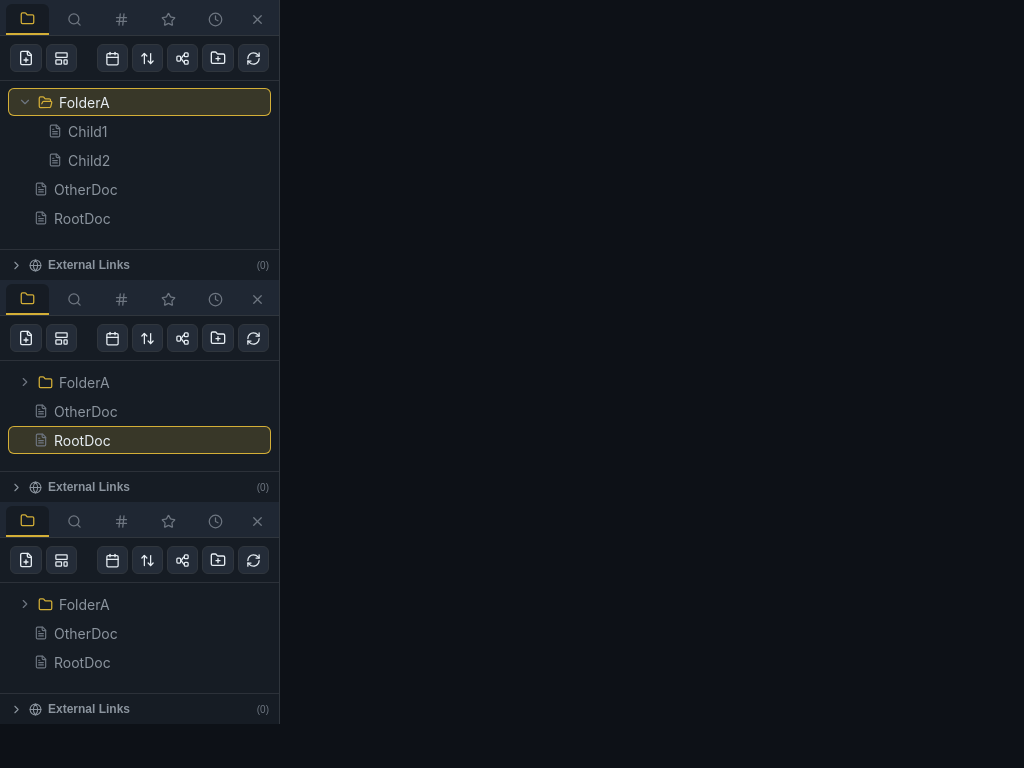
Test case: FileSidebar Multi-Select & Selection Logic › 3. Ctrl / Cmd + click toggles selection without changing the active note
This screenshot has width=1024, height=768.
Click the element with class "tree-label".
click(72, 662)  # box [34,654,111,670]
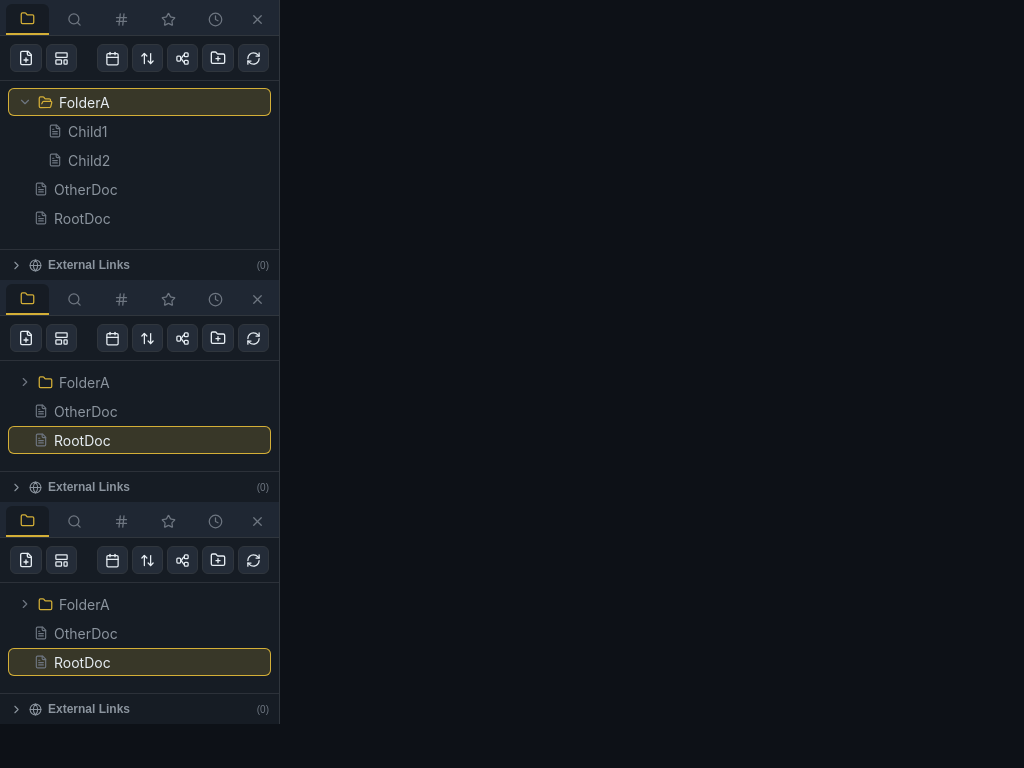
expect the element with class "tree-label" has class "is-selected": met, box [8,648,271,676]
Click the element with class "tree-label".
click(76, 633)  # box [34,624,118,642]
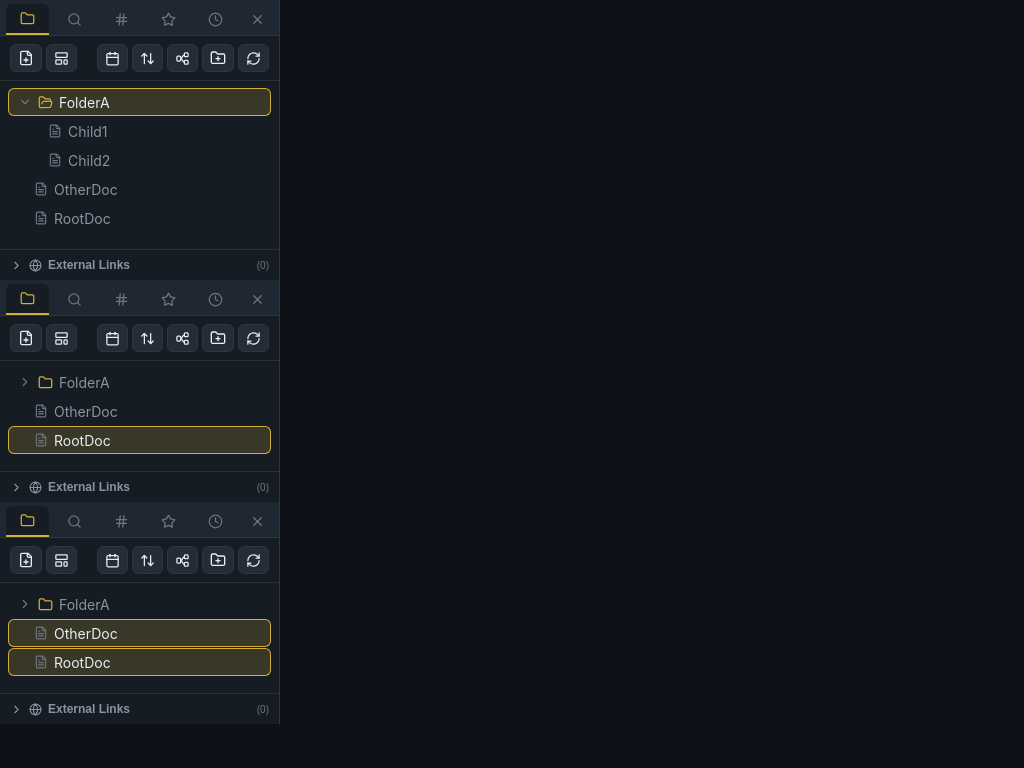
expect the element with class "tree-label" has class "is-selected": met
Click the element with class "tree-label".
click(140, 662)  # box [8,648,271,676]
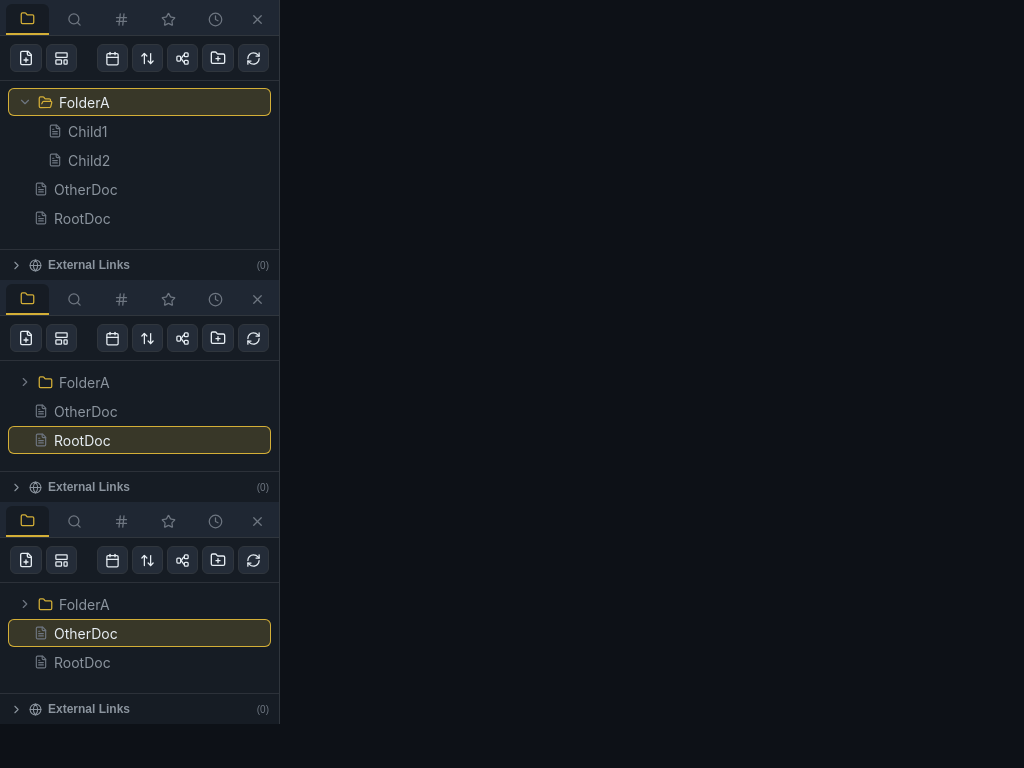
expect the element with class "tree-label" does not have class "is-selected": met, box [34,654,111,670]
expect the element with class "tree-label" has class "is-selected": met, box [8,619,271,647]
